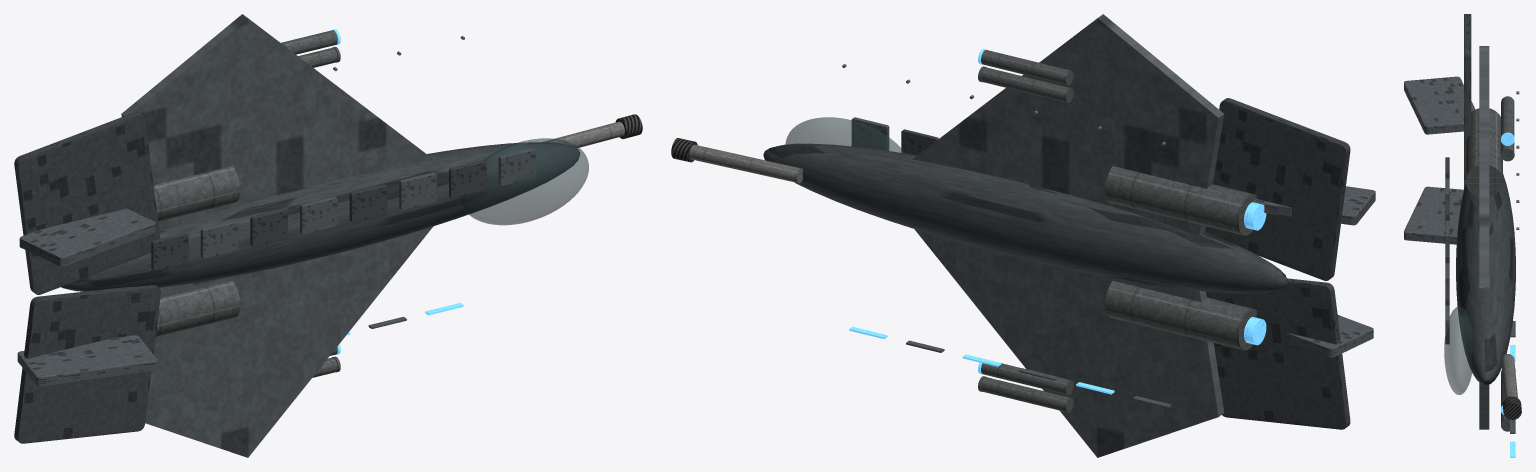
File: s-u23-specter-interceptor-lod0.glb
3 views of the same model, side by side, from view 1: azimuth 30°, elevation 25°; view 2: azimuth 150°, elevation 25°; view 3: azimuth 270°, elevation 25° (orthographic). The views are drawn at different scales.
Visible parts, largest first — view 1: combat_main_wing, combat_fuselage, combat_tailplane_-1, combat_tailplane_1, combat_canopy, combat_fin_-1, combat_fin_1, combat_engine_1, combat_engine_0, airframe_panel_4, airframe_panel_1, airframe_panel_2 (+7 smaller); view 2: combat_main_wing, combat_fuselage, combat_tailplane_1, combat_tailplane_-1, combat_engine_0, combat_engine_1, combat_canopy, combat_gun_barrel_0, combat_fin_-1, combat_1_tube_2, combat_1_tube_1, combat_-1_tube_1 (+3 smaller); view 3: combat_fuselage, combat_main_wing, combat_fin_1, combat_fin_-1, combat_engine_1, combat_canopy, combat_tailplane_1, combat_gun_barrel_0, combat_1_tube_2, combat_gun_muzzle_0, airframe_panel_7, combat_1_cap_2 (+1 smaller).
Boxes of the visible parts, x1=… form: combat_main_wing: x1=121, y1=14, x2=433, y2=457; combat_fuselage: x1=61, y1=142, x2=579, y2=291; combat_tailplane_-1: x1=14, y1=285, x2=160, y2=443; combat_tailplane_1: x1=14, y1=112, x2=160, y2=294; combat_canopy: x1=461, y1=138, x2=588, y2=225; combat_fin_-1: x1=17, y1=335, x2=157, y2=386; combat_fin_1: x1=19, y1=208, x2=155, y2=266; combat_engine_1: x1=153, y1=166, x2=240, y2=221; combat_engine_0: x1=155, y1=280, x2=240, y2=336; airframe_panel_4: x1=349, y1=184, x2=387, y2=222; airframe_panel_1: x1=200, y1=220, x2=238, y2=258; airframe_panel_2: x1=250, y1=208, x2=287, y2=246; combat_main_wing: x1=912, y1=14, x2=1224, y2=457; combat_fuselage: x1=763, y1=143, x2=1287, y2=293; combat_tailplane_1: x1=1205, y1=98, x2=1350, y2=280; combat_tailplane_-1: x1=1206, y1=278, x2=1350, y2=429; combat_engine_0: x1=1105, y1=281, x2=1256, y2=350; combat_engine_1: x1=1105, y1=166, x2=1256, y2=235; combat_canopy: x1=785, y1=117, x2=905, y2=153; combat_gun_barrel_0: x1=689, y1=144, x2=802, y2=183; combat_fin_-1: x1=1286, y1=315, x2=1373, y2=357; combat_1_tube_2: x1=981, y1=50, x2=1073, y2=85; combat_1_tube_1: x1=981, y1=67, x2=1073, y2=102; combat_-1_tube_1: x1=981, y1=377, x2=1073, y2=412; combat_fuselage: x1=1456, y1=174, x2=1515, y2=385; combat_main_wing: x1=1479, y1=46, x2=1489, y2=429; combat_fin_1: x1=1404, y1=76, x2=1475, y2=134; combat_fin_-1: x1=1404, y1=186, x2=1463, y2=244; combat_engine_1: x1=1465, y1=108, x2=1502, y2=197; combat_canopy: x1=1444, y1=306, x2=1472, y2=394; combat_tailplane_1: x1=1464, y1=14, x2=1471, y2=179; combat_gun_barrel_0: x1=1501, y1=354, x2=1517, y2=398; combat_1_tube_2: x1=1501, y1=96, x2=1514, y2=136; combat_gun_muzzle_0: x1=1502, y1=396, x2=1521, y2=419; airframe_panel_7: x1=1445, y1=305, x2=1449, y2=343; combat_1_cap_2: x1=1501, y1=132, x2=1514, y2=145.
Size of what is drawn, in the model's own units: 12.56 by 8.13 by 2.26.
7 materials, 7 textured.
